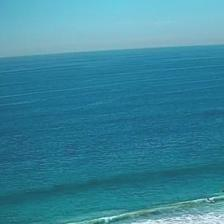surfer: (206, 198, 211, 202), (176, 196, 180, 199), (66, 211, 69, 214), (221, 190, 223, 193)
